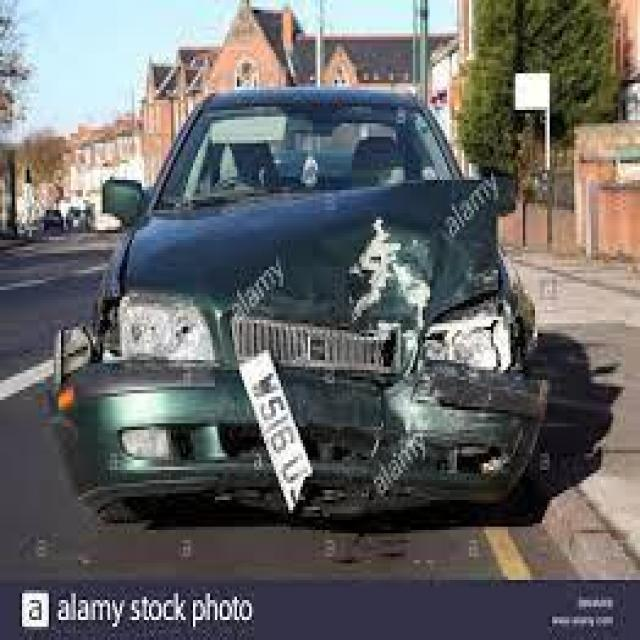damaged: (47, 213, 554, 517)
